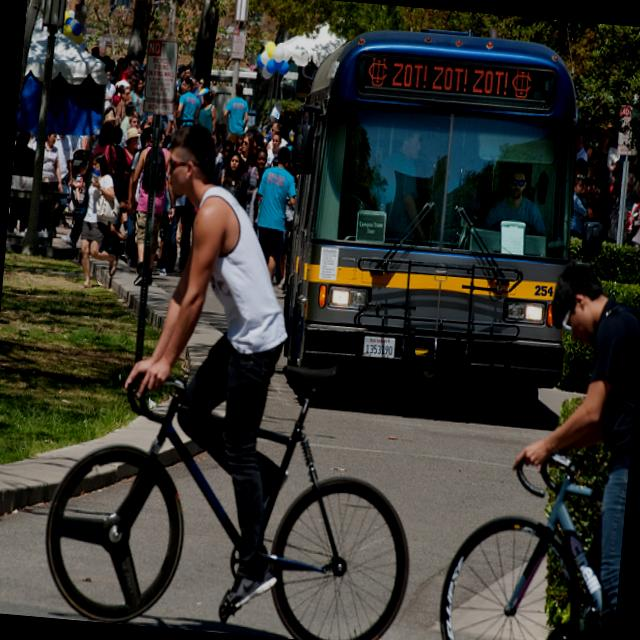Vehicle: (274, 29, 592, 389)
